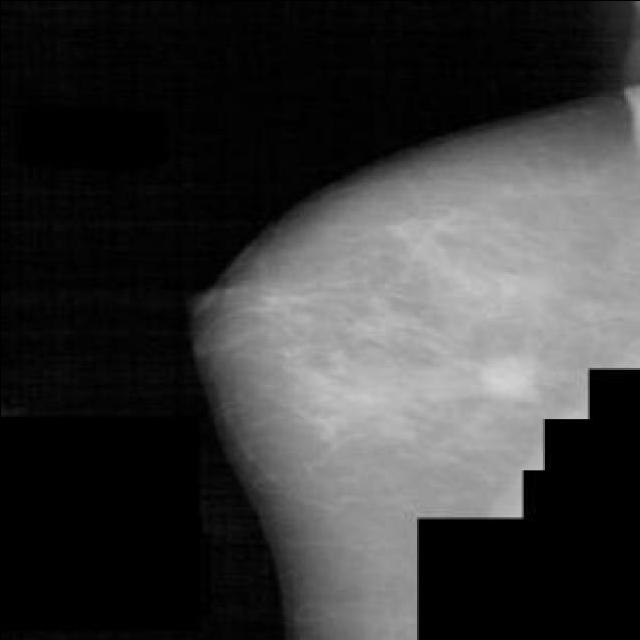tumor: (460, 336, 543, 417)
